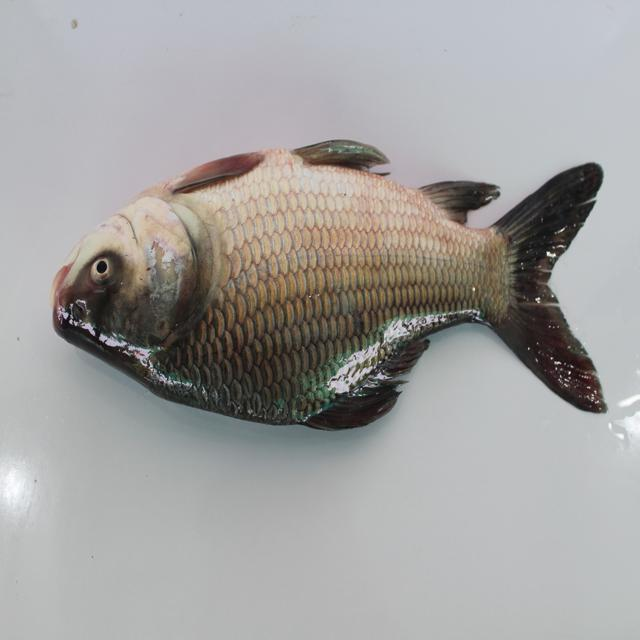Catla: (53, 124, 617, 464)
